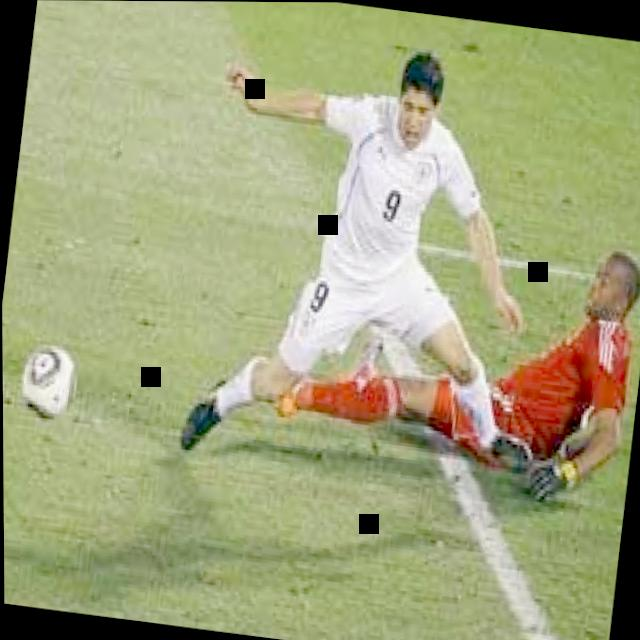Fall-Detected: (262, 196, 640, 487)
